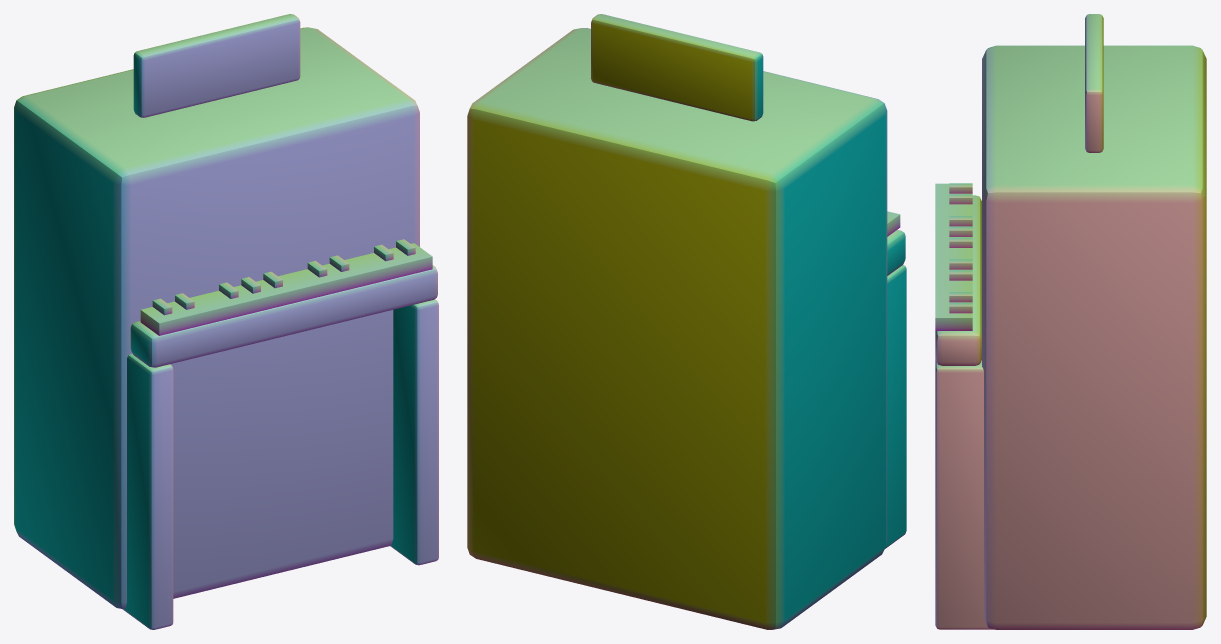
The model's file is piano.glb.
3 views of the same model, side by side, from view 1: azimuth 30°, elevation 25°; view 2: azimuth 150°, elevation 25°; view 3: azimuth 270°, elevation 25° (orthographic). The views are drawn at different scales.
Parts seen in each view (by area): view 1: piano; view 2: piano; view 3: piano.
Part boxes in pixels (bbox=[...]): piano: bbox=[14, 14, 438, 629]; piano: bbox=[467, 14, 906, 629]; piano: bbox=[935, 14, 1206, 629].
Bounding box in the file's own units: 0.76 × 1.2 × 0.58.
